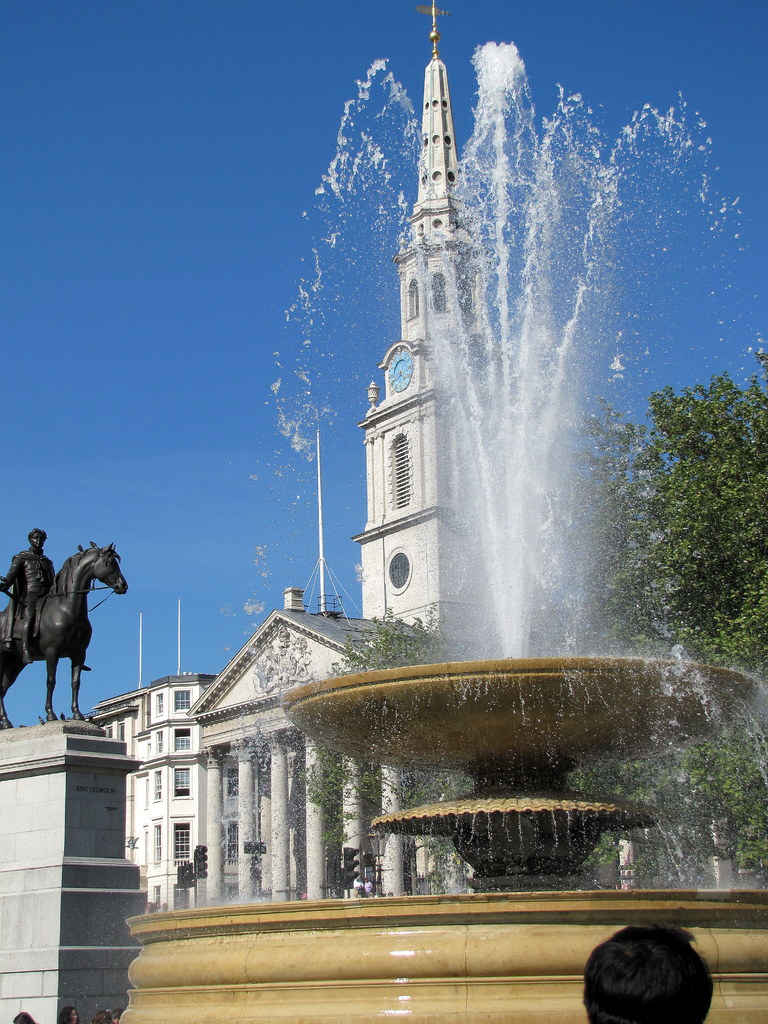Tree: (283, 375, 727, 892), (618, 352, 753, 668)
